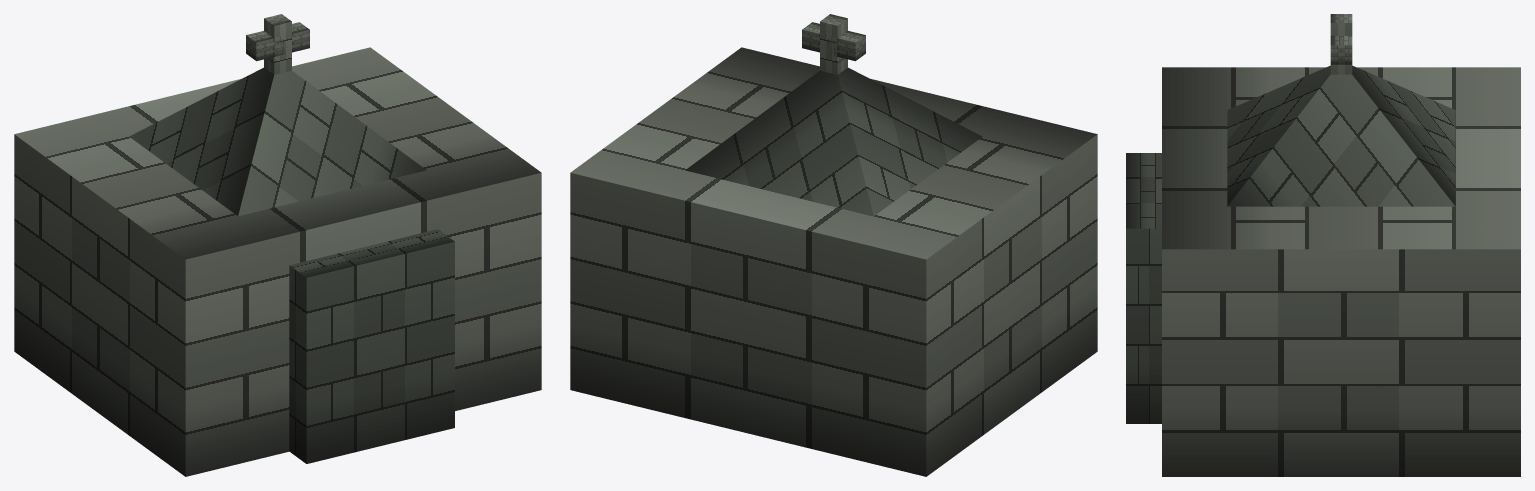
File: crypt.gltf
The picture shows the model from 3 angles, left to right: view 1: azimuth 30°, elevation 25°; view 2: azimuth 150°, elevation 25°; view 3: azimuth 270°, elevation 25°; orthographic projection. The views are drawn at different scales.
Parts seen in each view (by area): view 1: crypt; view 2: crypt; view 3: crypt.
Boxes of the visible parts, x1=… form: crypt: x1=14, y1=14, x2=541, y2=476; crypt: x1=570, y1=14, x2=1097, y2=476; crypt: x1=1126, y1=14, x2=1520, y2=476.
Bounding box in the file's own units: 1.2 × 1.13 × 1.1.
1 material, 1 textured.
